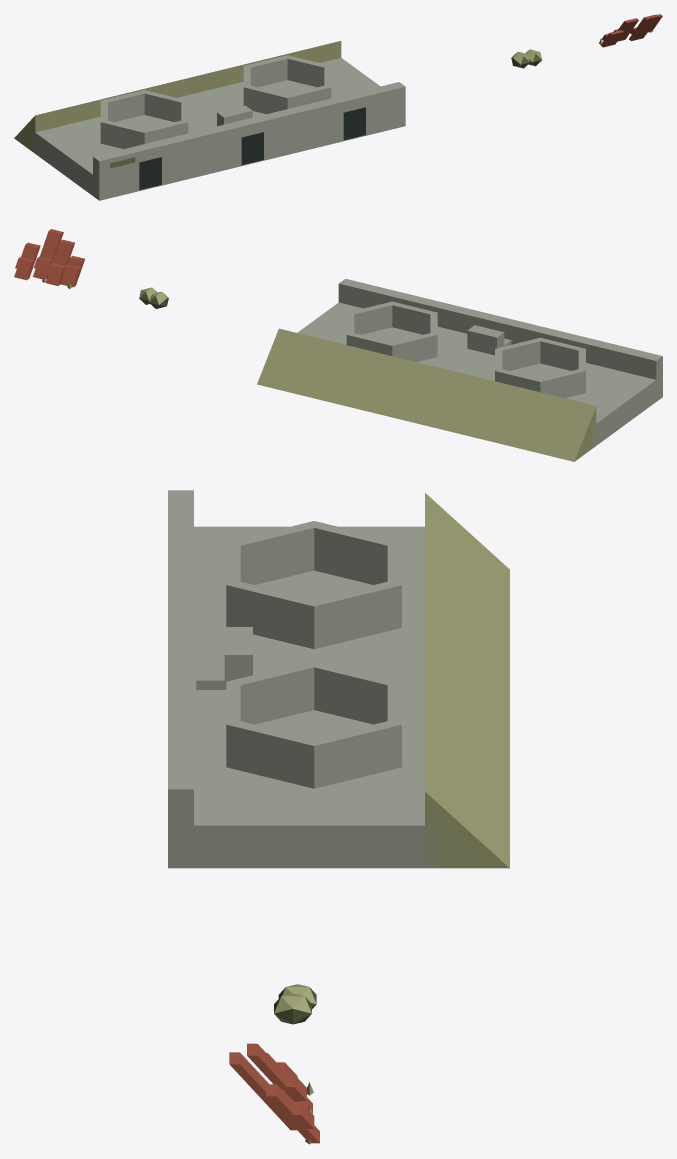
The model's file is sf-headlands.glb.
3 views of the same model, one above another, from view 1: azimuth 30°, elevation 25°; view 2: azimuth 150°, elevation 25°; view 3: azimuth 270°, elevation 25° (orthographic). The views are drawn at different scales.
Parts seen in each view (by area): view 1: gg_battery_body, sf_chert_outcrop_body, coyote_brush_body; view 2: gg_battery_body, sf_chert_outcrop_body, coyote_brush_body; view 3: gg_battery_body, sf_chert_outcrop_body, coyote_brush_body.
Part boxes in pixels (x1,y1,x2,y2): gg_battery_body: (14, 41, 405, 200); sf_chert_outcrop_body: (599, 14, 662, 47); coyote_brush_body: (511, 49, 542, 68); gg_battery_body: (257, 278, 662, 461); sf_chert_outcrop_body: (14, 229, 84, 288); coyote_brush_body: (139, 287, 168, 308); gg_battery_body: (168, 490, 509, 868); sf_chert_outcrop_body: (229, 1043, 319, 1144); coyote_brush_body: (274, 984, 316, 1024).
Size of the model in its own units: 57.72 by 4 by 14.54.
